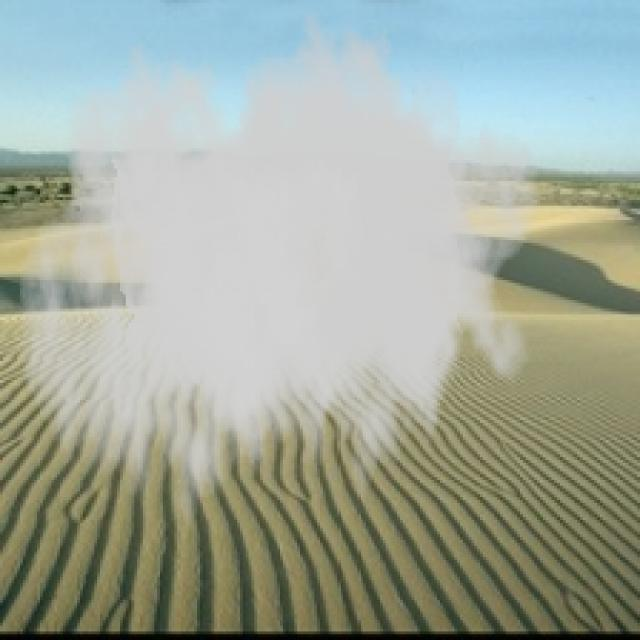Smoke: (17, 0, 543, 555)
